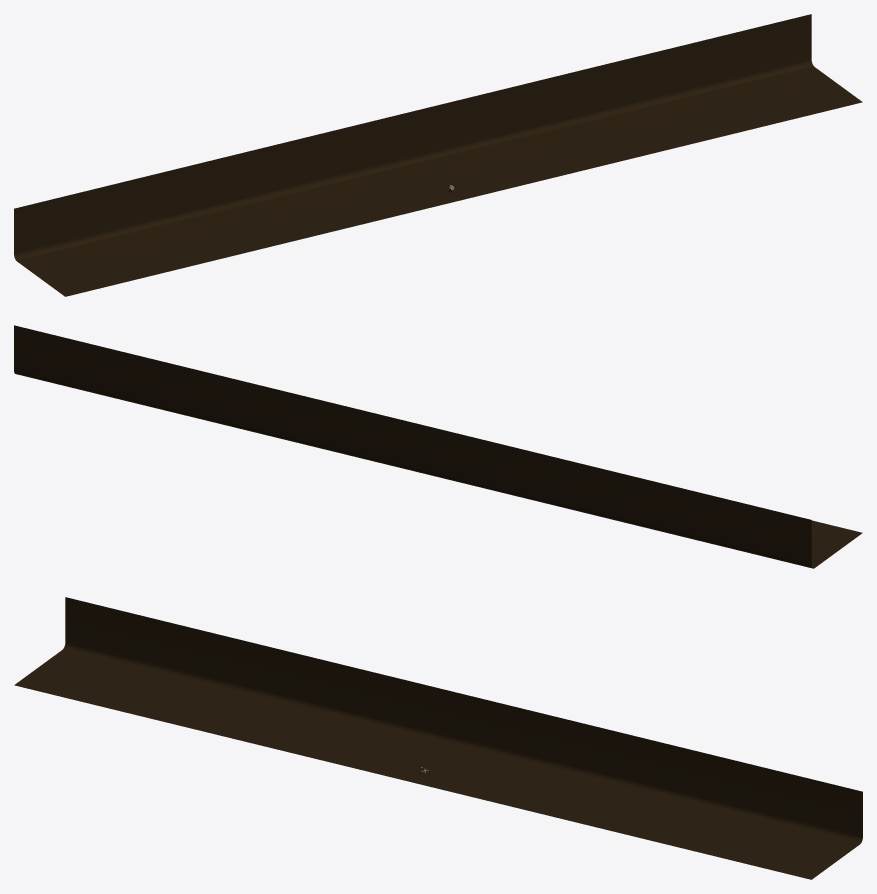
The model's file is ball-loop.glb.
3 views of the same model, one above another, from view 1: azimuth 30°, elevation 25°; view 2: azimuth 150°, elevation 25°; view 3: azimuth 330°, elevation 25° (orthographic).
Parts seen in each view (by area): view 1: Ground; view 2: Ground; view 3: Ground.
Boxes of the visible parts, x1,y1,x2,y2 form: Ground: [14, 14, 862, 296]; Ground: [14, 325, 862, 568]; Ground: [14, 597, 862, 879].
Bounding box in the file's own units: 959 × 58.56 × 107.
